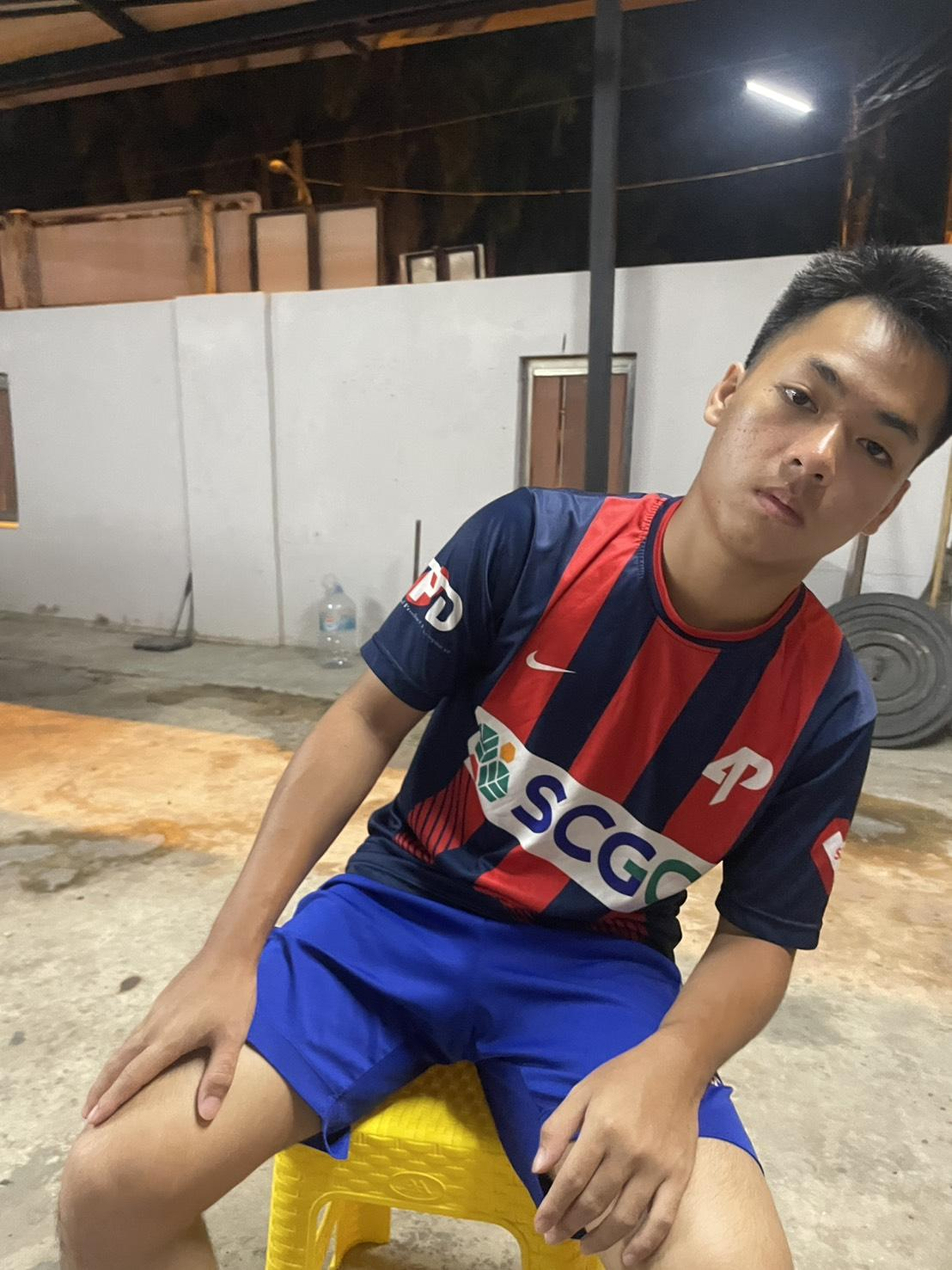BadPosture: (227, 243, 951, 960), (381, 243, 951, 1066)
